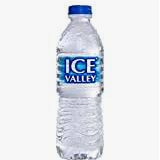Bottle: (57, 5, 103, 160)
